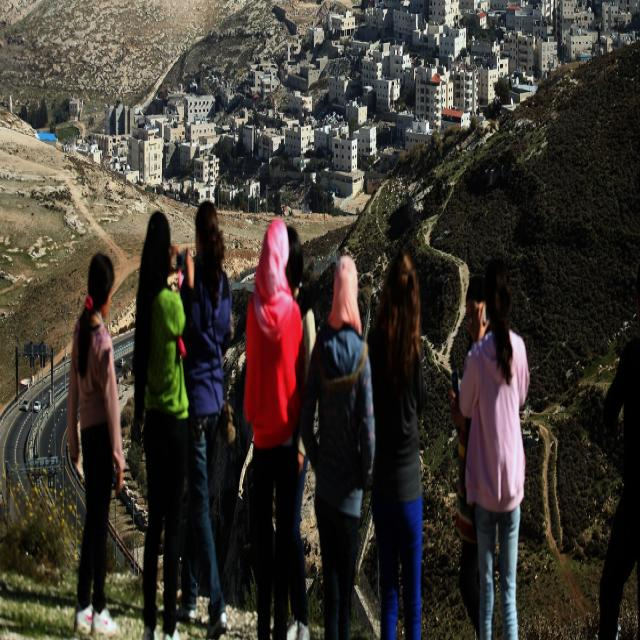body: (297, 249, 378, 639), (456, 261, 532, 638), (359, 244, 430, 639), (173, 196, 235, 638), (131, 205, 193, 639), (242, 213, 304, 640), (64, 249, 128, 639), (278, 223, 319, 640), (448, 271, 487, 639), (594, 328, 640, 638)
